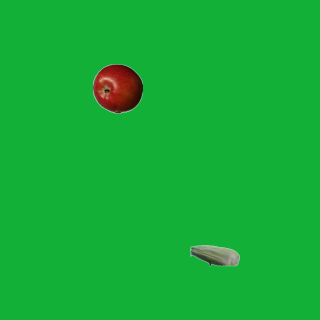Apple Braeburn: (92, 63, 142, 113)
Corn Husk: (189, 230, 239, 280)
